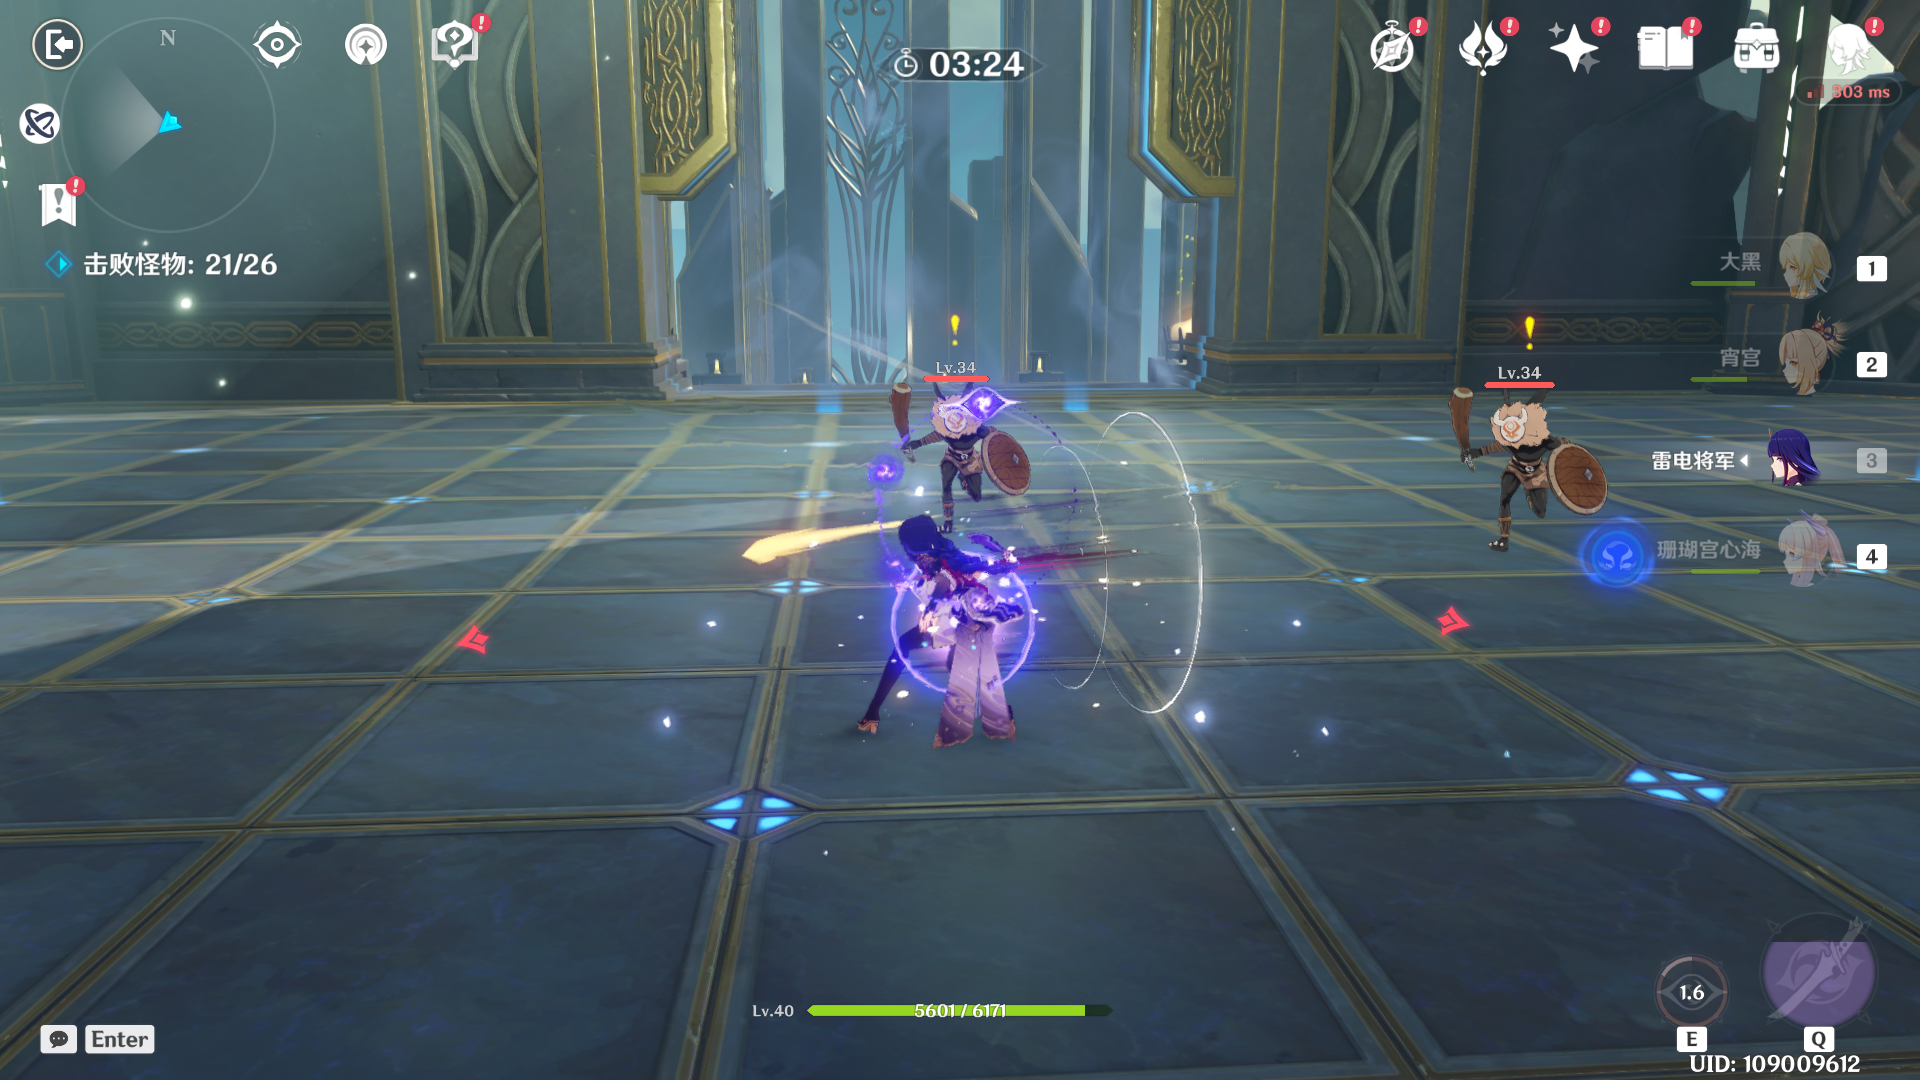character: (800, 502, 1155, 777)
hili: (1436, 386, 1611, 566), (866, 373, 1043, 545)
